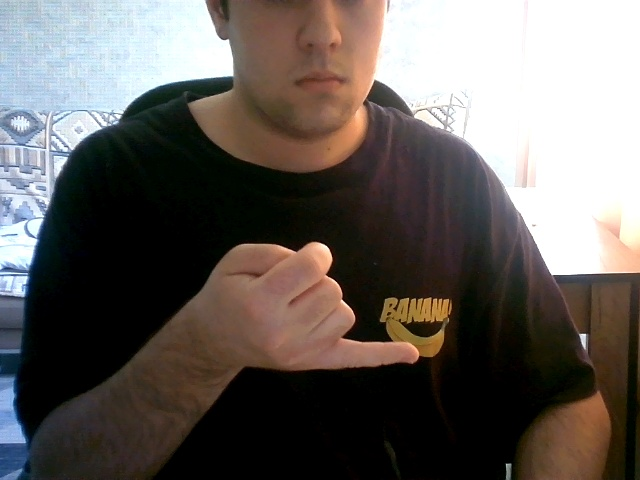bad: (171, 224, 436, 391)
